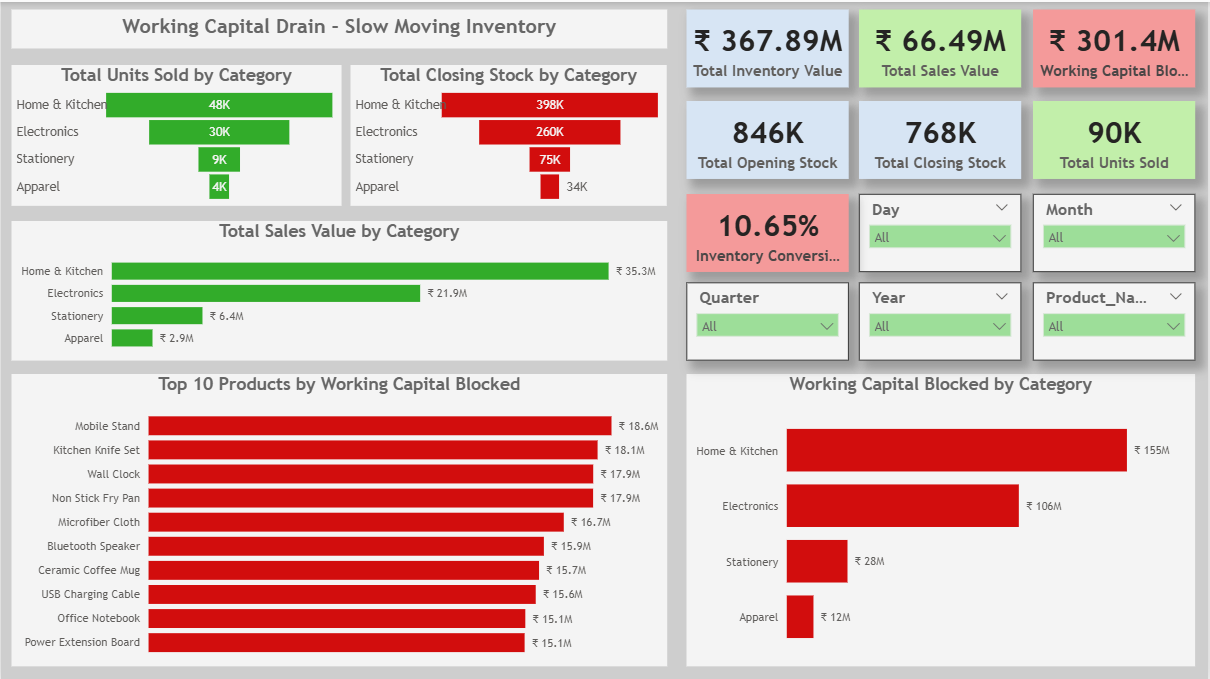

Layout of this report page (visuals, bound fields, positions):
{"tool":"powerbi","page":{"name":"Page 1","canvas":[1280,720],"ordinal":0},"visuals":[{"type":"card","fields":{"Values":["Date Dim.Total Inventory Value"]},"box":[726.9,8,171.8,82.7],"z":0},{"type":"slicer","fields":{"Values":["Date Dim.Day"]},"box":[909.8,203.6,171.8,82.7],"z":1000},{"type":"clusteredBarChart","fields":{"Category":["Products Dim.Category"],"Y":["Date Dim.Working Capital Blocked"]},"box":[726.9,394.5,539.2,310.2],"z":2000},{"type":"funnel","fields":{"Category":["Products Dim.Category"],"Y":["Date Dim.Total Units Sold"]},"box":[11.1,66.8,349.9,149.5],"z":3000},{"type":"clusteredBarChart","fields":{"Category":["Products Dim.Category"],"Y":["Date Dim.Total Sales Value"]},"box":[11.1,232.2,695.1,147.9],"z":4000},{"type":"clusteredBarChart","title":"Top 10 Products by Working Capital Blocked","fields":{"Category":["Products Dim.Product_Name"],"Y":["Date Dim.Working Capital Blocked"]},"box":[11.1,394.5,695.1,310.2],"z":5000},{"type":"card","fields":{"Values":["Date Dim.Total Sales Value"]},"box":[909.8,8,171.8,82.7],"z":6000},{"type":"card","fields":{"Values":["Date Dim.Working Capital Blocked"]},"box":[1094.3,8,171.8,82.7],"z":7000},{"type":"card","fields":{"Values":["Date Dim.Total Opening Stock"]},"box":[726.9,105,171.8,82.7],"z":8000},{"type":"card","fields":{"Values":["Date Dim.Total Closing Stock"]},"box":[909.8,105,171.8,82.7],"z":9000},{"type":"card","fields":{"Values":["Date Dim.Total Units Sold"]},"box":[1094.3,105,171.8,82.7],"z":10000},{"type":"card","fields":{"Values":["Date Dim.Inventory Conversion %"]},"box":[726.9,203.6,171.8,82.7],"z":11000},{"type":"slicer","fields":{"Values":["Date Dim.Month"]},"box":[1094.3,203.6,171.8,82.7],"z":12000},{"type":"slicer","fields":{"Values":["Date Dim.Quarter"]},"box":[726.9,297.4,171.8,82.7],"z":13000},{"type":"slicer","fields":{"Values":["Date Dim.Year"]},"box":[909.8,297.4,171.8,82.7],"z":14000},{"type":"slicer","fields":{"Values":["Products Dim.Product_Name"]},"box":[1094.3,297.4,171.8,82.7],"z":15000},{"type":"funnel","fields":{"Category":["Products Dim.Category"],"Y":["Date Dim.Total Closing Stock"]},"box":[370.6,66.8,335.6,149.5],"z":16000},{"type":"textbox","box":[11.1,8,695.1,41.4],"z":17000}]}

Visuals, with their boxes in screenshot pixels (x1, y1, x2, y2), scaled from the page's 1280x720 canvas onto the 1210x679 screenshot:
card - Date Dim.Total Inventory Value: select_region(687, 8, 850, 86)
slicer - Date Dim.Day: select_region(860, 192, 1022, 270)
clusteredBarChart - Products Dim.Category x Date Dim.Working Capital Blocked: select_region(687, 372, 1197, 665)
funnel - Products Dim.Category x Date Dim.Total Units Sold: select_region(10, 63, 341, 204)
clusteredBarChart - Products Dim.Category x Date Dim.Total Sales Value: select_region(10, 219, 668, 358)
"Top 10 Products by Working Capital Blocked" clusteredBarChart: select_region(10, 372, 668, 665)
card - Date Dim.Total Sales Value: select_region(860, 8, 1022, 86)
card - Date Dim.Working Capital Blocked: select_region(1034, 8, 1197, 86)
card - Date Dim.Total Opening Stock: select_region(687, 99, 850, 177)
card - Date Dim.Total Closing Stock: select_region(860, 99, 1022, 177)
card - Date Dim.Total Units Sold: select_region(1034, 99, 1197, 177)
card - Date Dim.Inventory Conversion %: select_region(687, 192, 850, 270)
slicer - Date Dim.Month: select_region(1034, 192, 1197, 270)
slicer - Date Dim.Quarter: select_region(687, 280, 850, 358)
slicer - Date Dim.Year: select_region(860, 280, 1022, 358)
slicer - Products Dim.Product_Name: select_region(1034, 280, 1197, 358)
funnel - Products Dim.Category x Date Dim.Total Closing Stock: select_region(350, 63, 668, 204)
textbox: select_region(10, 8, 668, 47)
